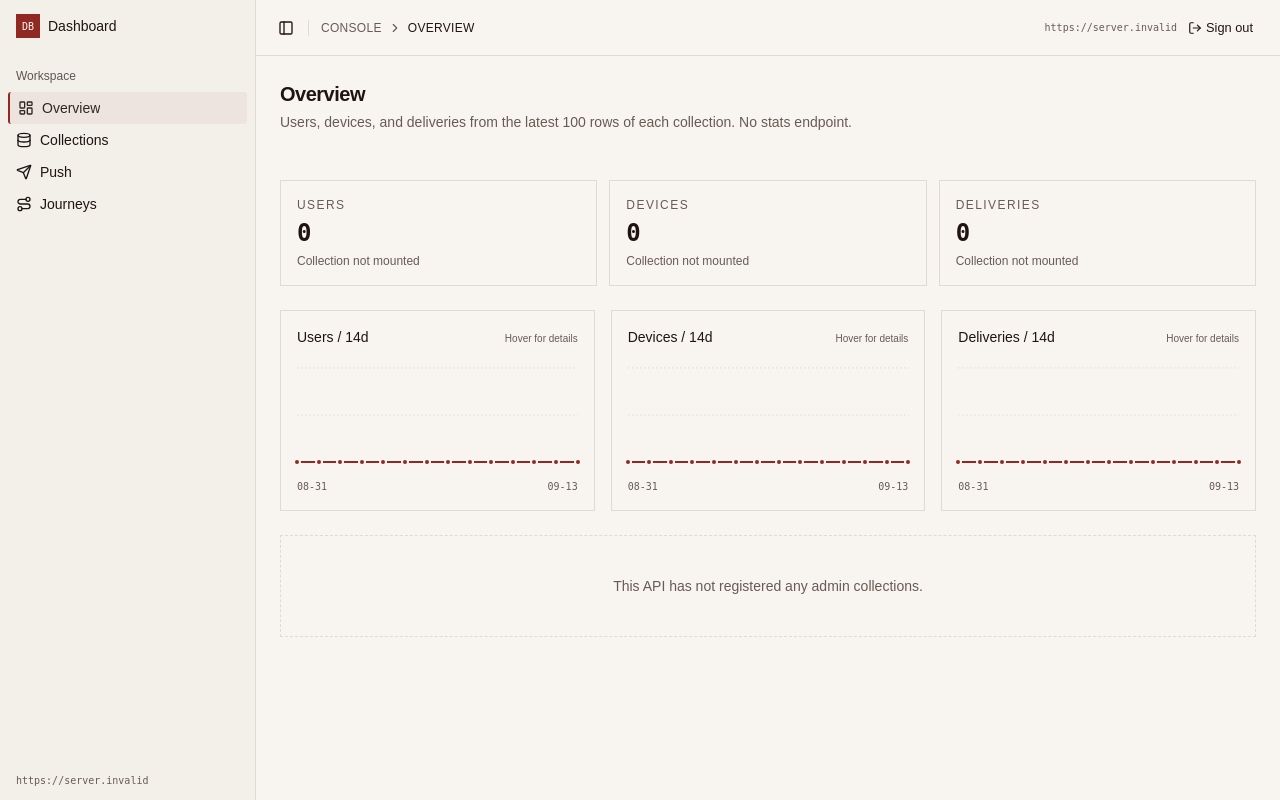
it: operator dashboard › signs out, clears storage, and returns to login
The image size is (1280, 800).
Expected: the heading "Overview" is shown, [280,83,365,105]
Click the button "Sign out" at (1222, 28), box [1181,14,1264,42]
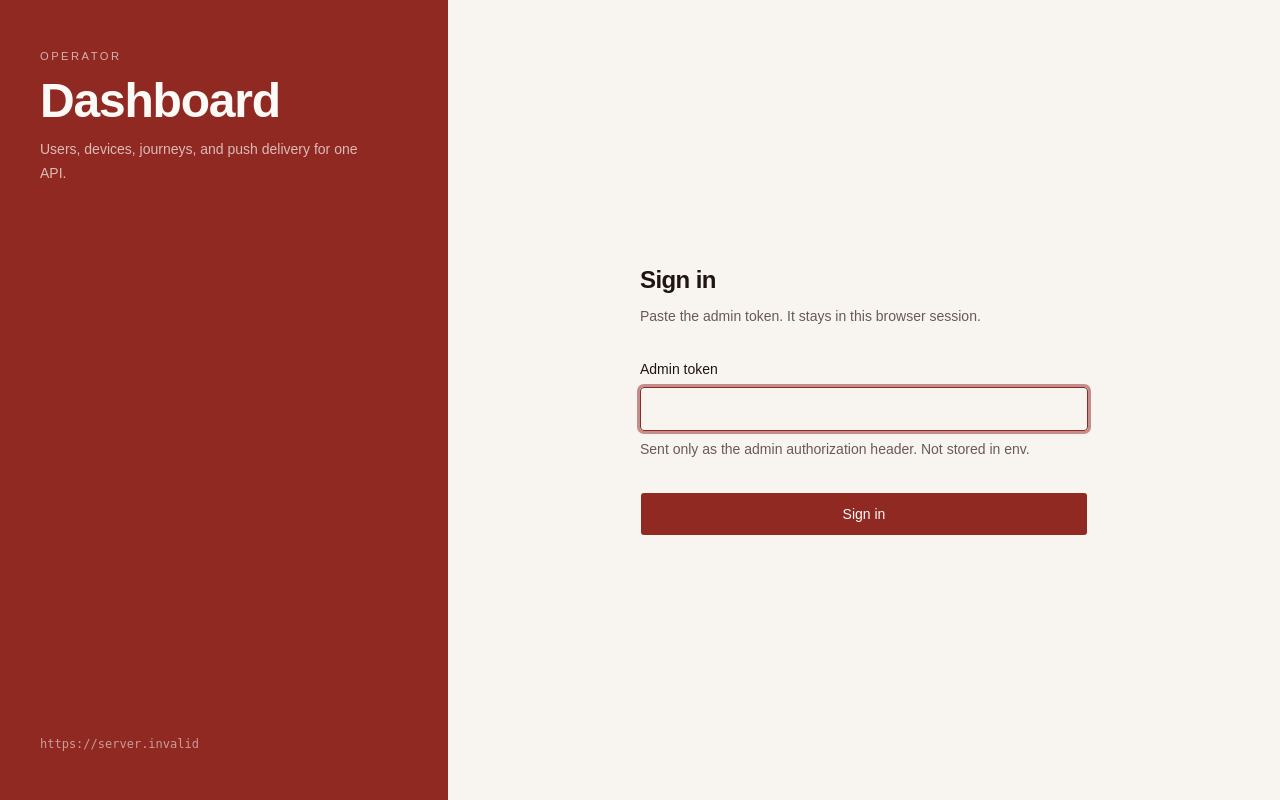
Now the field labelled "Admin token" is shown, box [640,387,1088,431]
